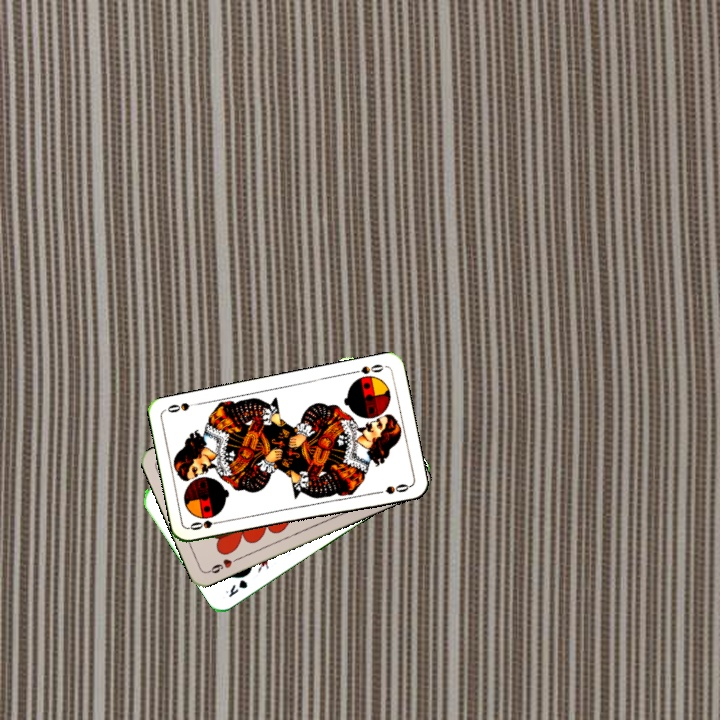GK: (221, 575, 250, 600)
H9: (204, 553, 242, 576)
SO: (186, 516, 226, 533), (347, 360, 386, 377)
